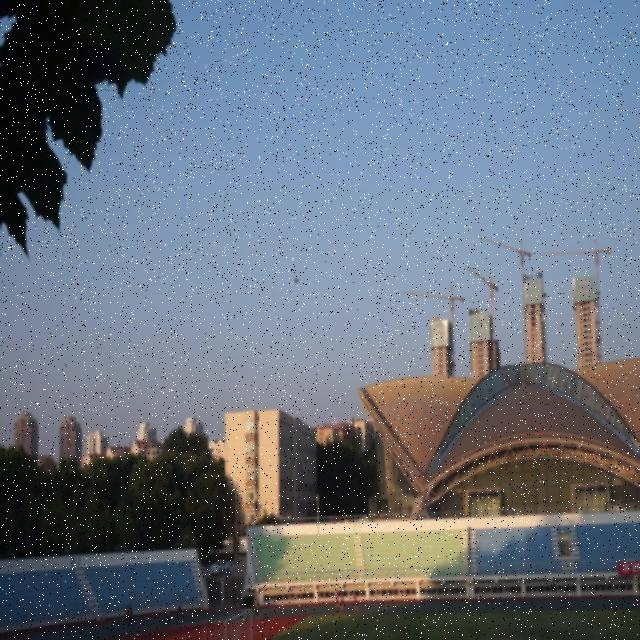UAV: (294, 276, 300, 285)
